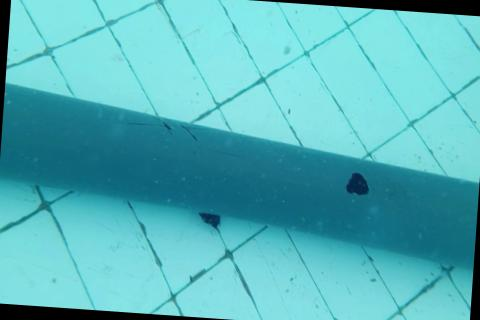kebocoran: (344, 171, 370, 197)
keretakan: (126, 115, 209, 141)
